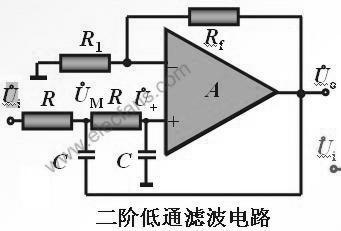amplifier: (156, 26, 285, 160)
cap1: (135, 146, 159, 164), (75, 146, 98, 161)
res1: (20, 109, 75, 133), (57, 52, 113, 75), (186, 5, 242, 28), (89, 110, 143, 133)
